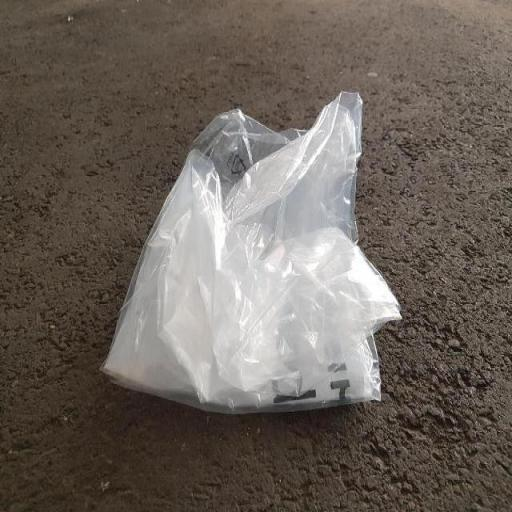plastic-bag: (98, 86, 408, 416)
